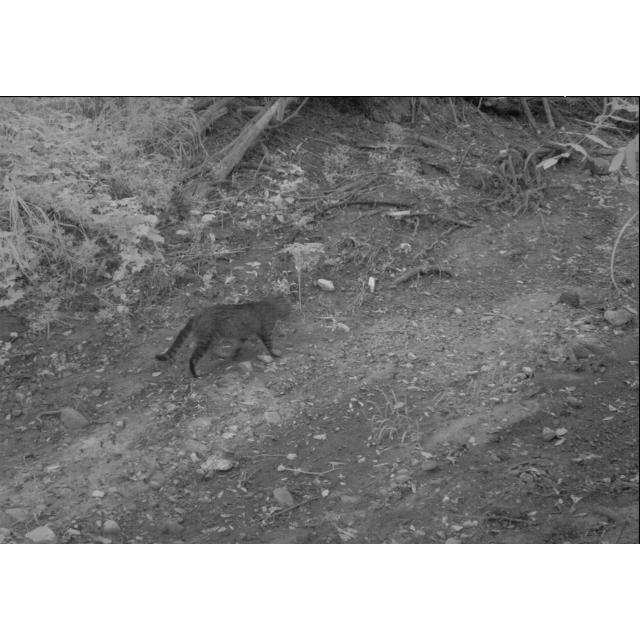animals: (154, 291, 300, 383)
